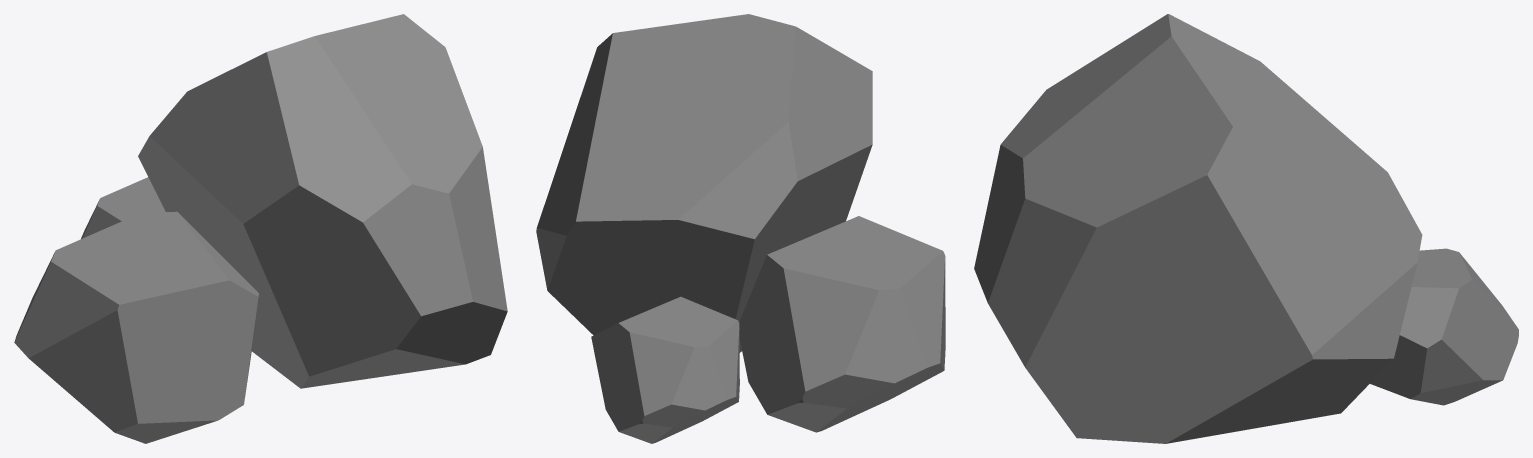
The model's file is Rock2.fbx.
3 renders of one model, left to right at view 1: azimuth 30°, elevation 25°; view 2: azimuth 150°, elevation 25°; view 3: azimuth 270°, elevation 25°, orthographic. The views are drawn at different scales.
Parts seen in each view (by area): view 1: Cube.004; view 2: Cube.004; view 3: Cube.004.
Boxes of the visible parts, x1,y1,x2,y2 form: Cube.004: [14, 14, 507, 443]; Cube.004: [536, 14, 945, 443]; Cube.004: [974, 14, 1518, 443].
Bounding box in the file's own units: 2220 × 1997 × 2420.
